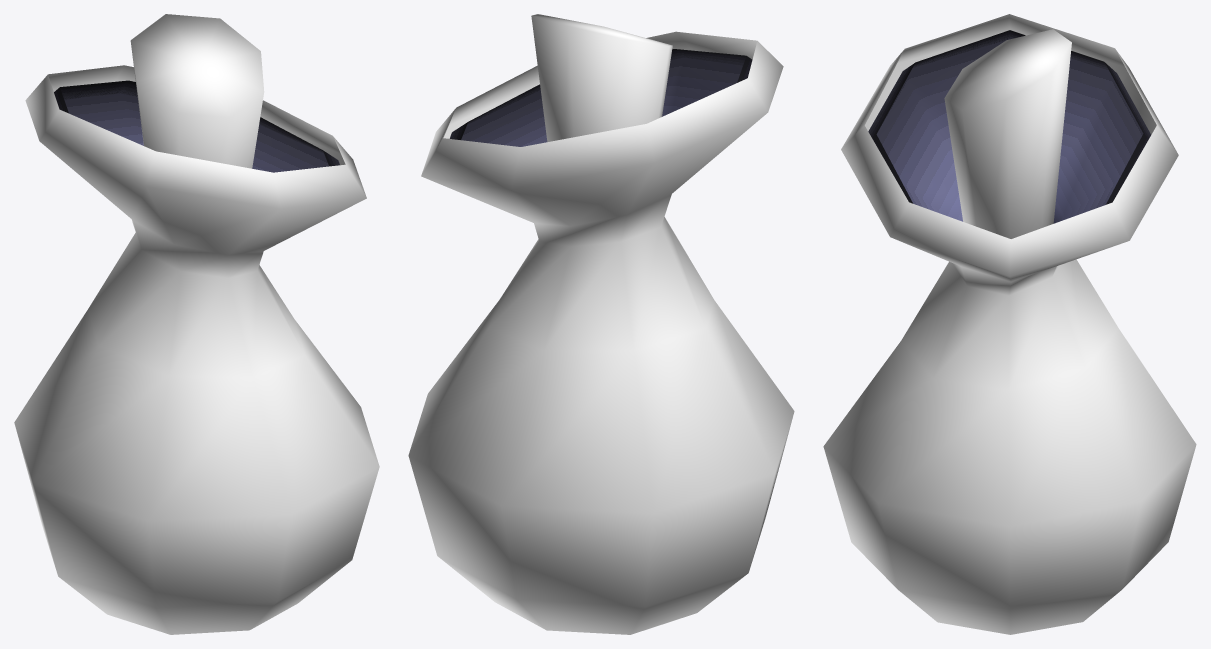
File: VIGOR.fbx
3 renders of one model, left to right at view 1: azimuth 30°, elevation 25°; view 2: azimuth 150°, elevation 25°; view 3: azimuth 270°, elevation 25°, orthographic. The views are drawn at different scales.
Parts seen in each view (by area): view 1: VIGOR; view 2: VIGOR; view 3: VIGOR.
Part boxes in pixels (x1,y1,x2,y2): VIGOR: (14, 14, 379, 634); VIGOR: (408, 14, 794, 634); VIGOR: (823, 14, 1196, 634).
Size of the model in its own units: 3440 by 5833 by 3428.
